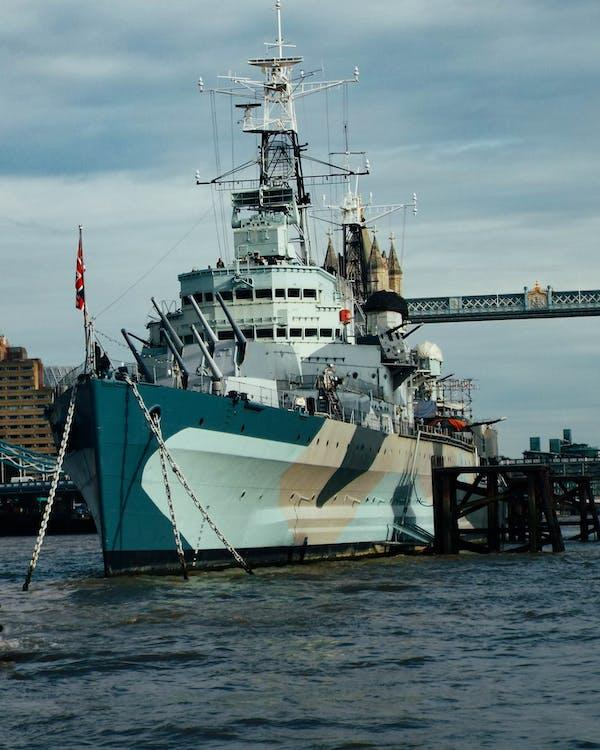MIL_Ship: (43, 46, 496, 566)
